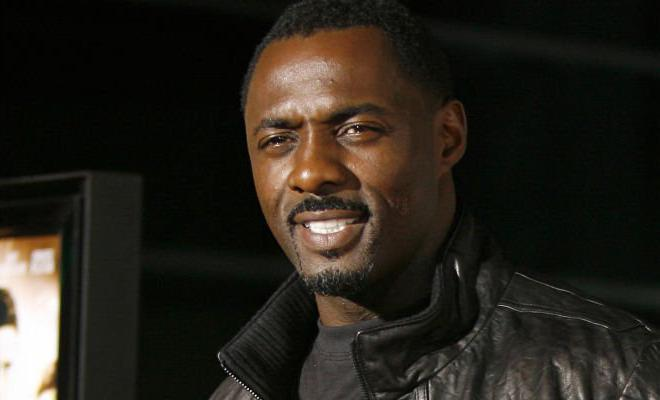Sober: (244, 59, 415, 274)
